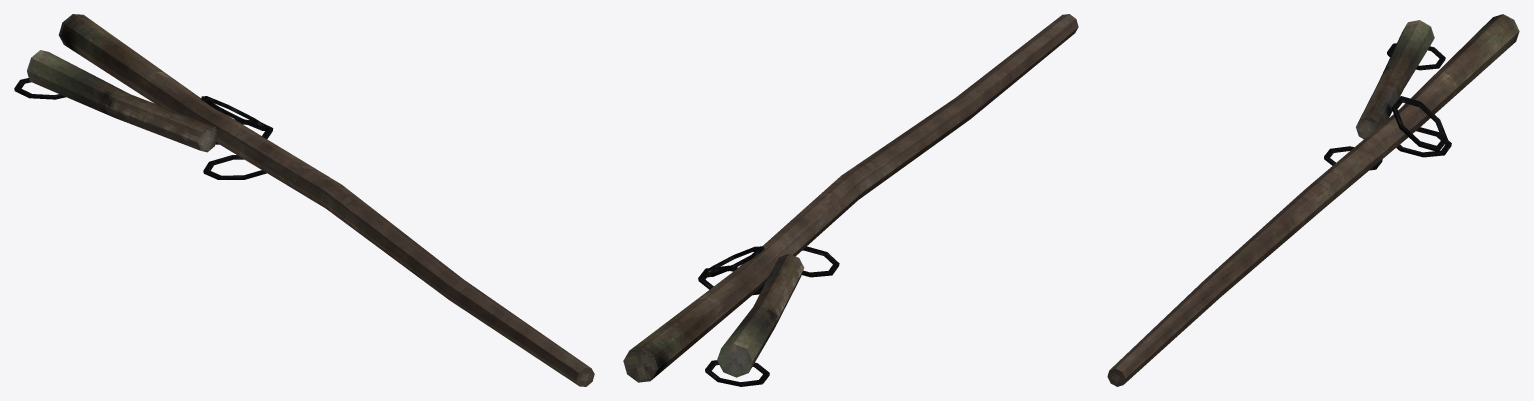
The model's file is Lamp_broken_02.glb.
The picture shows the model from 3 angles, left to right: view 1: azimuth 30°, elevation 25°; view 2: azimuth 150°, elevation 25°; view 3: azimuth 330°, elevation 25°; orthographic projection. The views are drawn at different scales.
Parts seen in each view (by area): view 1: Lamp_broken_02; view 2: Lamp_broken_02; view 3: Lamp_broken_02.
Boxes of the visible parts, x1=… form: Lamp_broken_02: x1=14, y1=14, x2=594, y2=386; Lamp_broken_02: x1=623, y1=14, x2=1078, y2=386; Lamp_broken_02: x1=1107, y1=14, x2=1519, y2=386.
Bounding box in the file's own units: 2.85 × 0.8499 × 14.56.
1 material, 1 textured.
